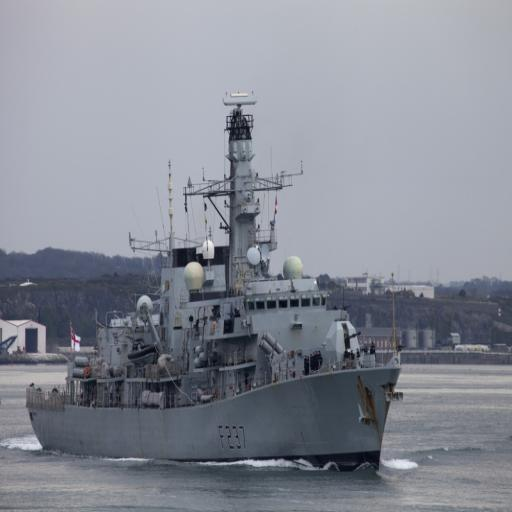Fragata: (27, 85, 407, 477)
